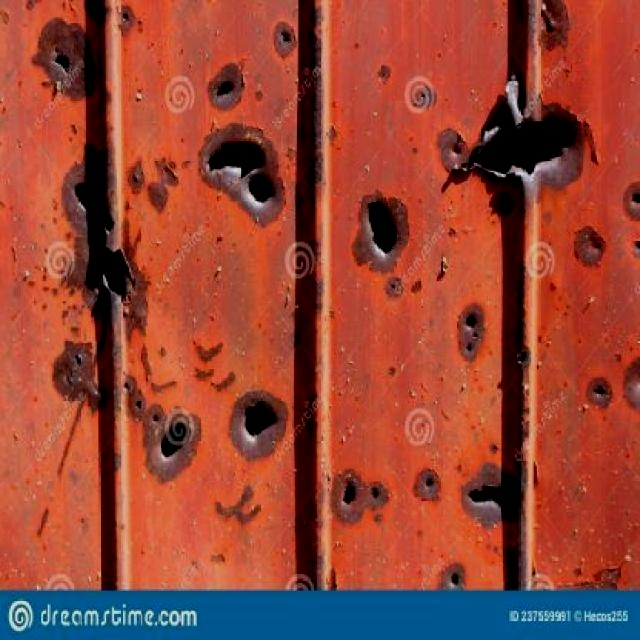Hole: (455, 72, 581, 187), (69, 146, 143, 318), (198, 124, 290, 224), (118, 373, 199, 484), (53, 340, 106, 414), (233, 391, 287, 460), (467, 473, 523, 524), (366, 196, 401, 258), (212, 66, 246, 106), (49, 38, 76, 79), (506, 544, 517, 592), (342, 481, 358, 509), (281, 29, 295, 49), (516, 350, 529, 367), (466, 315, 478, 330), (450, 573, 461, 589), (593, 386, 607, 398), (424, 477, 436, 491), (121, 12, 132, 26), (372, 486, 379, 501), (633, 193, 640, 206), (390, 283, 398, 294), (595, 244, 602, 252), (635, 243, 640, 254), (467, 344, 473, 353), (474, 332, 480, 339), (421, 95, 427, 99), (455, 151, 459, 157), (383, 75, 386, 79), (415, 151, 418, 154)
Rusty: (307, 4, 327, 190), (527, 1, 571, 53), (147, 158, 181, 216), (215, 486, 262, 526), (624, 358, 640, 412), (127, 160, 147, 200), (196, 343, 224, 366), (140, 344, 154, 383), (211, 372, 237, 393), (152, 380, 178, 397), (195, 369, 215, 384), (183, 161, 192, 170)
